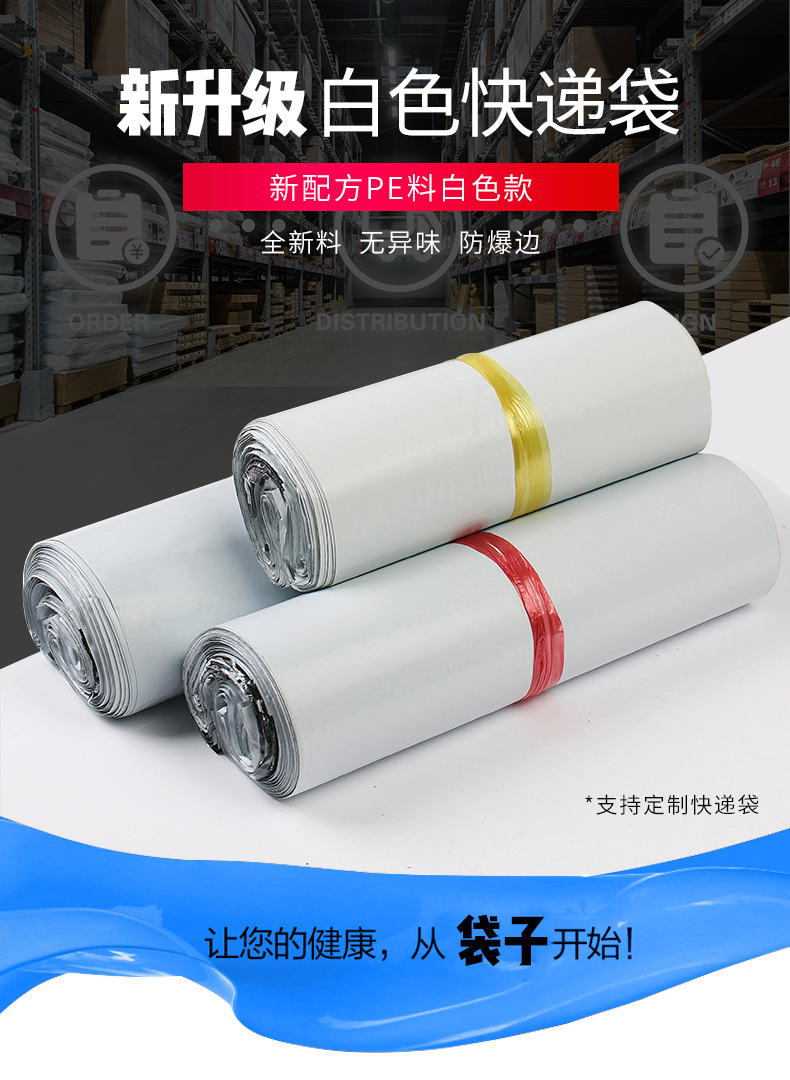塑料袋: (0, 253, 789, 865)
